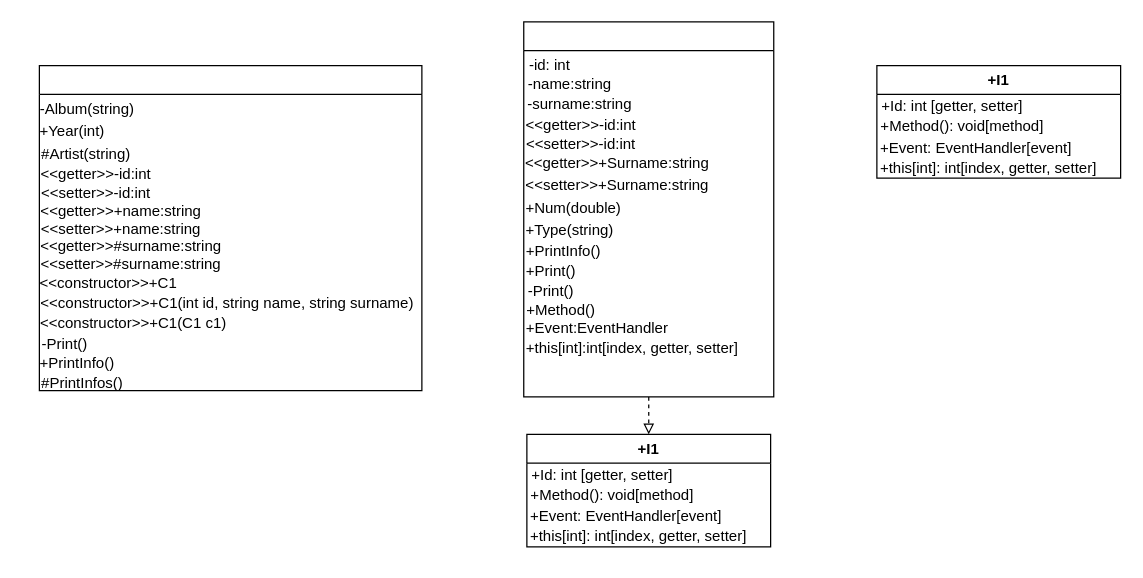
Some shapes in this 1143 by 578 pixel diagram are drawn without their labels. The shapes that lost their labels are listed below. From the top down, each one's box as (x1, y1, x2, y2) in pixels, then its label:
(38, 64, 422, 391): +С1
(522, 21, 774, 397): +C2
